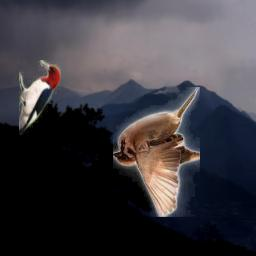Sparrow: (113, 87, 200, 217)
Woodpecker: (19, 60, 61, 135)
